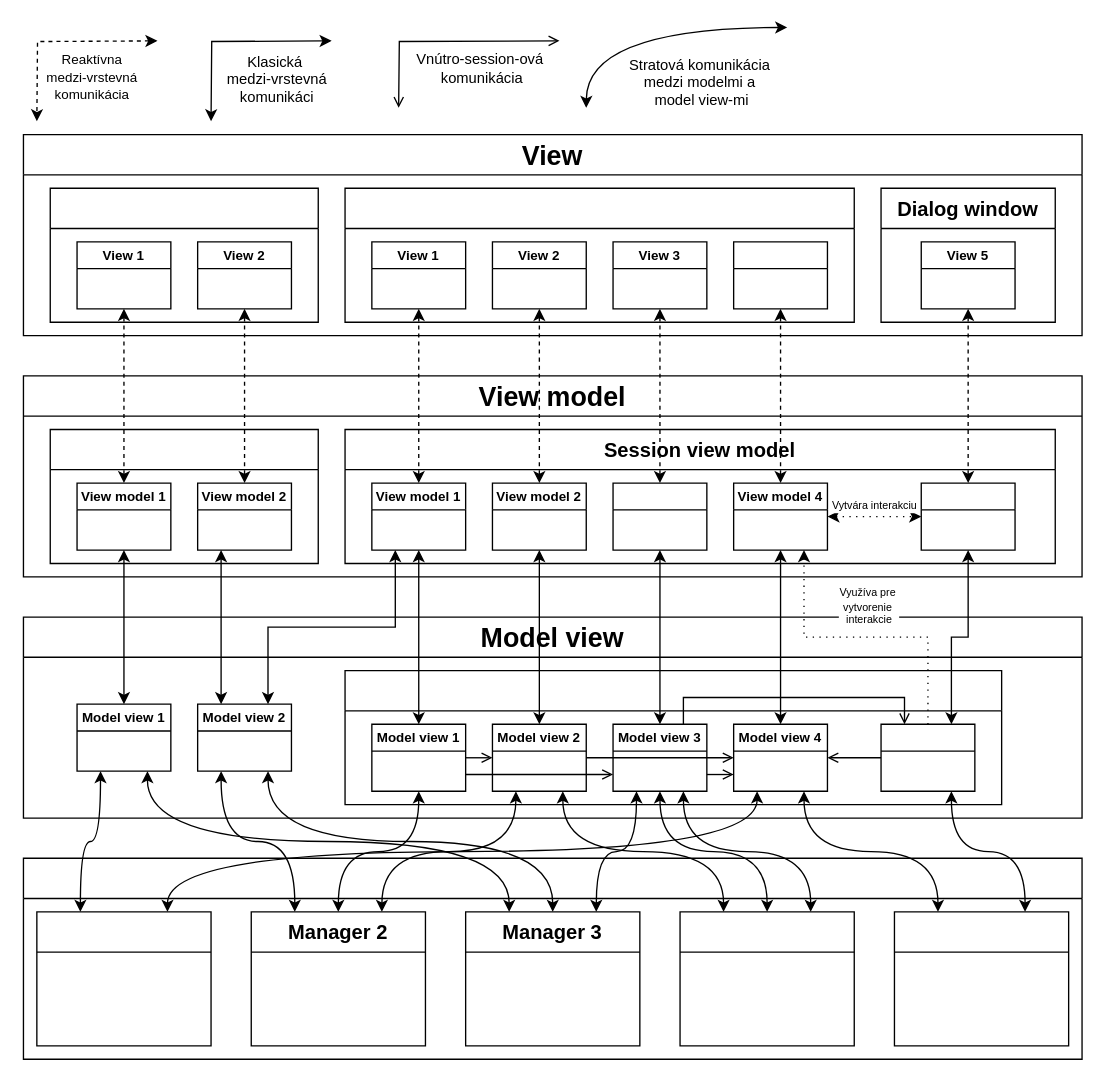
The diagram is 1106 pixels wide and 1084 high, and some of its shapes have lost their labels. The shapes that lost their labels are listed below. From the top down, each one's box as (x1, y1, x2, y2) in pixels, then its label:
(49, 187, 318, 322): Main Window
(344, 187, 854, 322): Session Window
(732, 241, 827, 309): View 4
(49, 428, 318, 563): Main window view model
(612, 482, 707, 550): View model 3
(920, 482, 1015, 550): View model 5
(344, 669, 1002, 805): Session model view
(880, 723, 975, 791): Model view 5
(22, 857, 1082, 1059): Model
(36, 911, 211, 1046): Manager 1
(679, 911, 854, 1046): Manager 4
(893, 911, 1069, 1046): Manager 5
